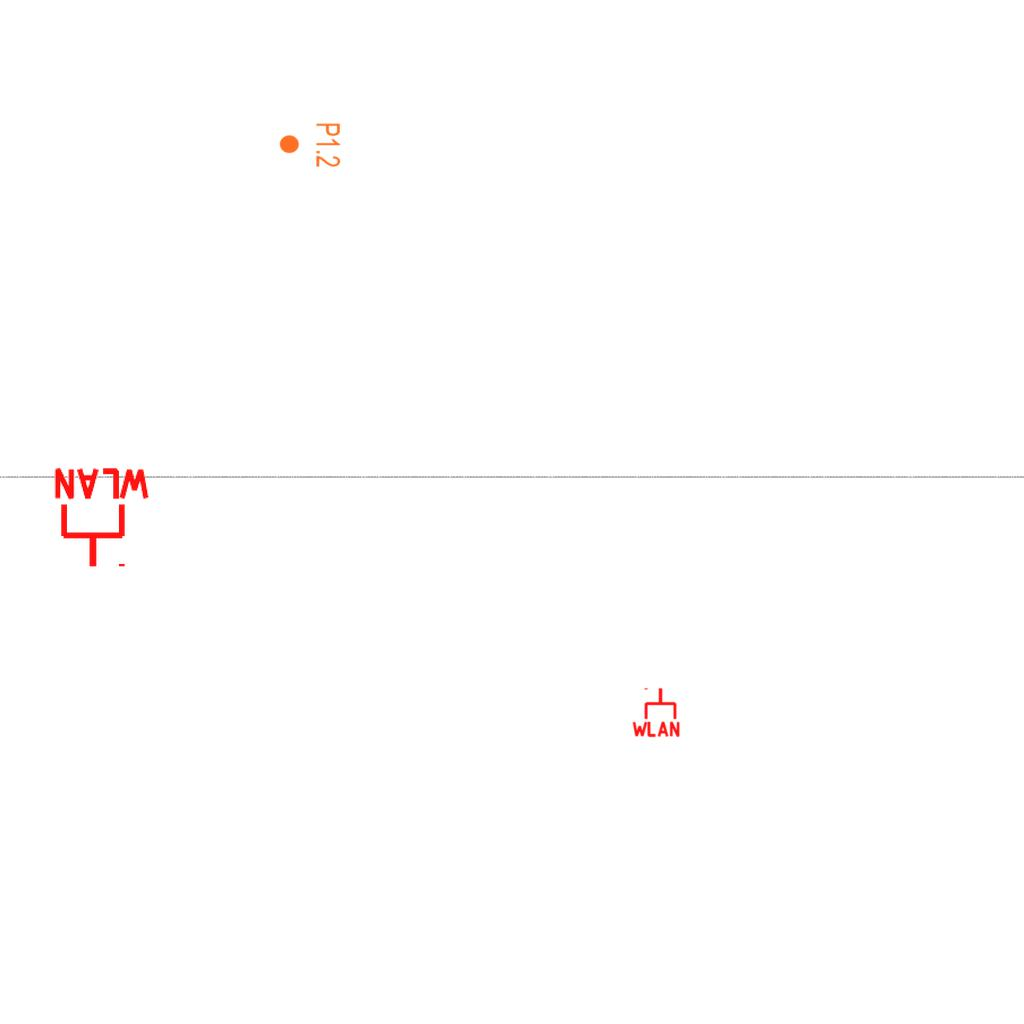Downlight_LED_Einbauleuchten_Flur: (278, 122, 342, 168)
WLAN: (50, 466, 154, 571), (630, 686, 682, 738)
